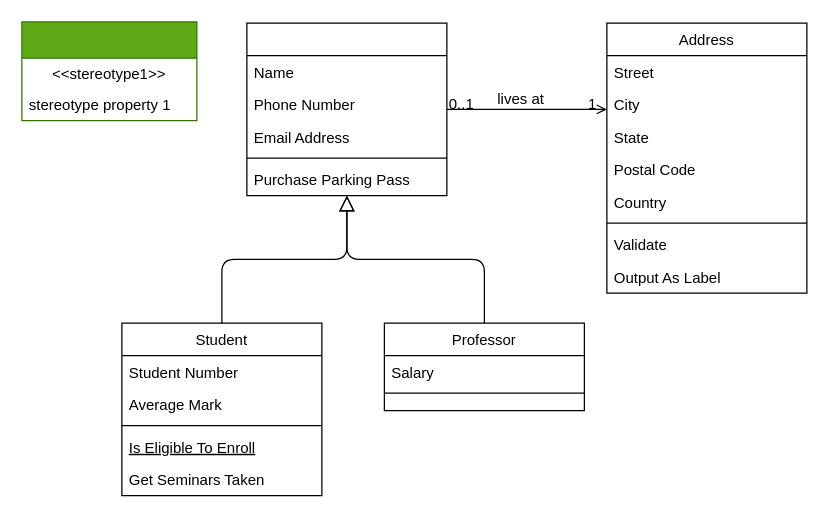
This 829x521 diagram has some shape labels left out. The shapes that lost their labels are listed below. From the top down, each one's box as (x1, y1, x2, y2) in pixels, then its label:
(21, 21, 197, 121): Class1
(246, 22, 447, 196): Person
